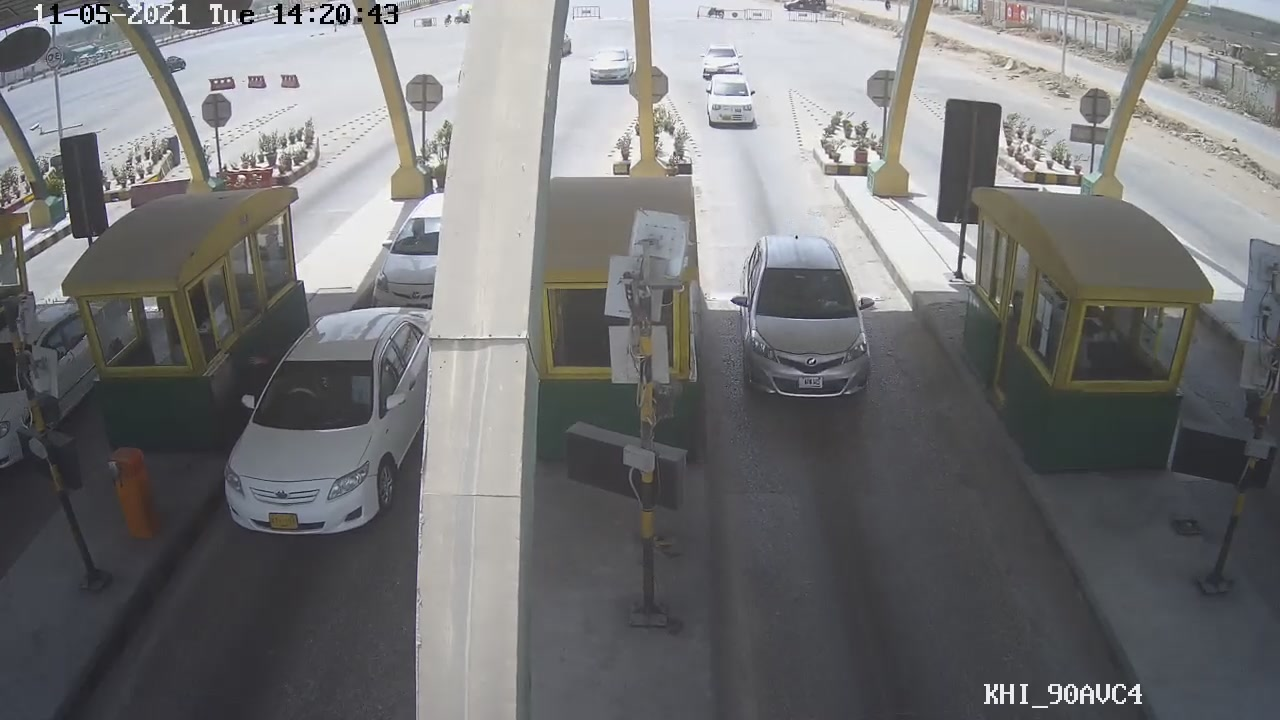F1: (708, 238, 890, 400)
